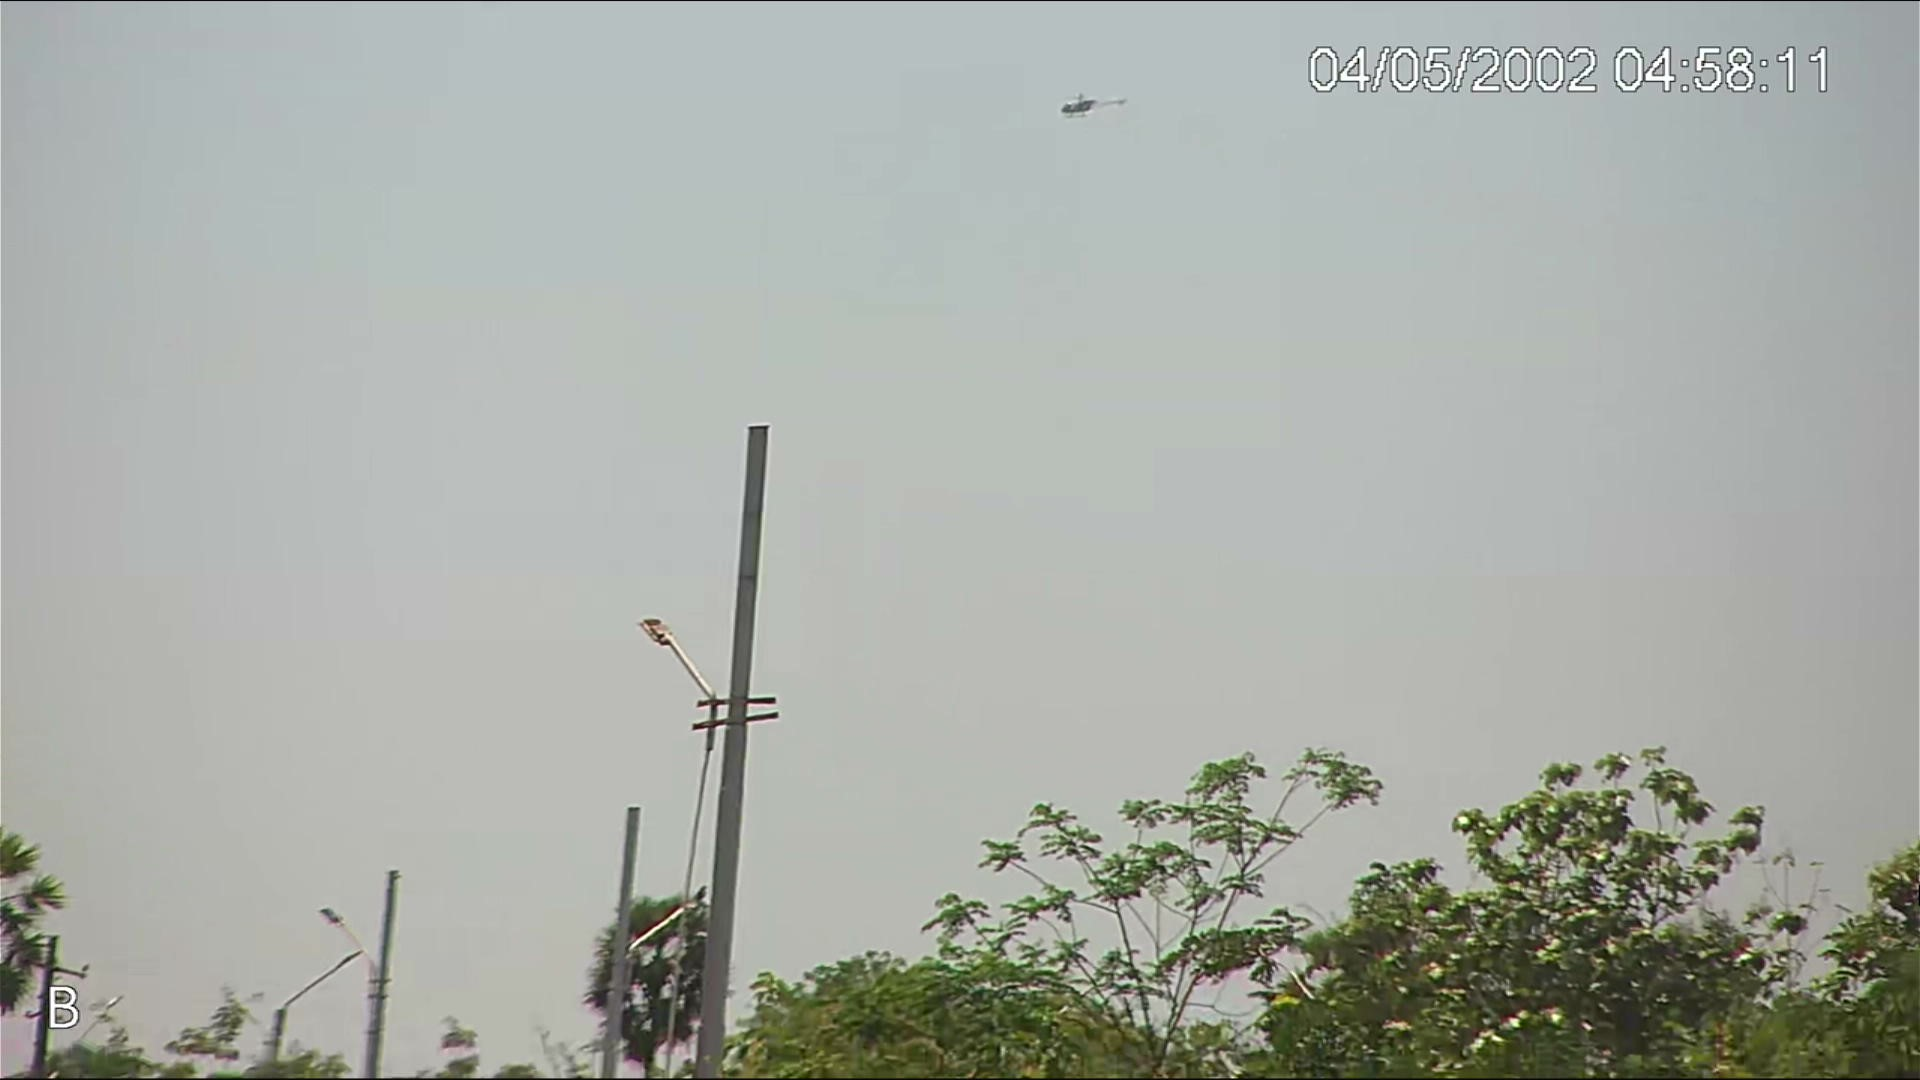SU_30: (1056, 88, 1127, 117)
